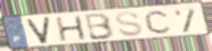7: (173, 6, 198, 34)
B: (84, 12, 117, 41)
C: (143, 9, 174, 35)
H: (54, 14, 88, 43)
S: (114, 10, 144, 38)
V: (24, 16, 52, 45)
